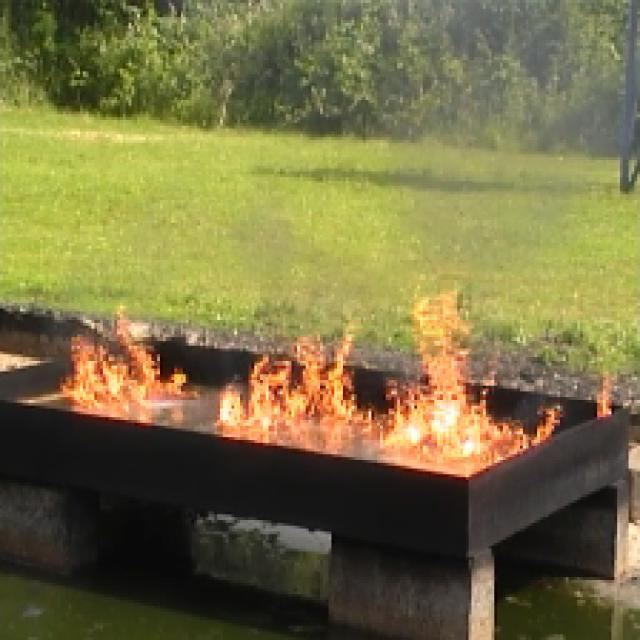Fire: (63, 314, 536, 456)
